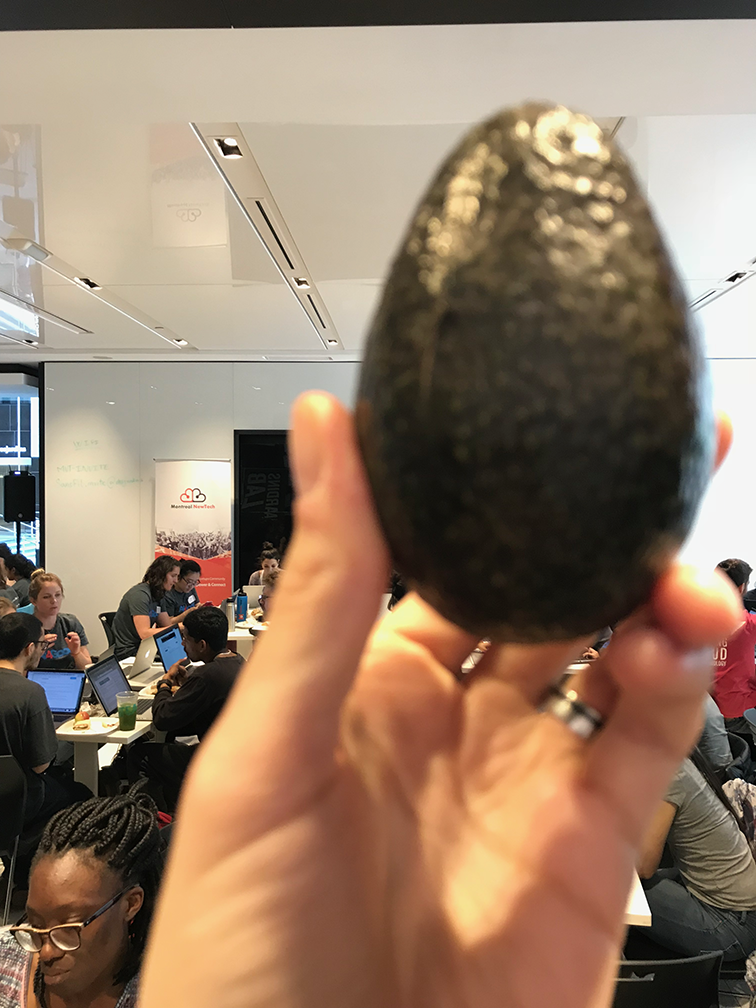avocado: (338, 84, 718, 660)
